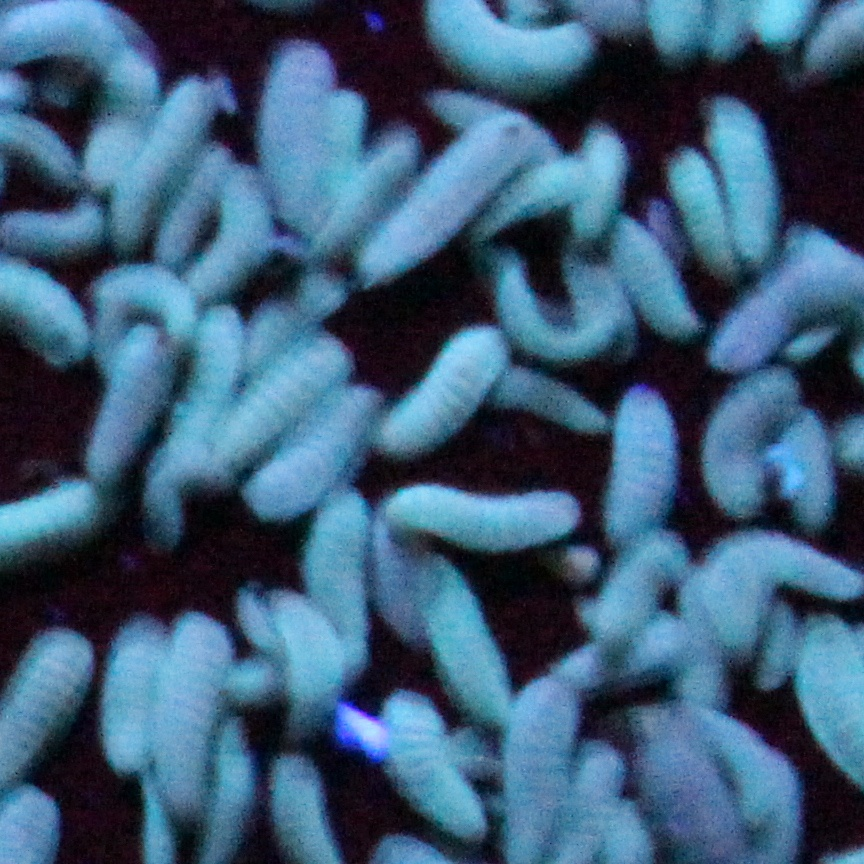larve: (376, 112, 522, 281), (191, 337, 348, 489), (104, 76, 225, 254), (374, 671, 491, 844), (382, 465, 587, 561), (696, 83, 794, 272), (254, 40, 340, 249), (696, 360, 803, 526), (378, 323, 502, 456), (157, 604, 233, 809), (596, 383, 679, 558), (75, 332, 181, 462), (98, 603, 168, 779), (661, 140, 748, 280), (340, 112, 427, 245), (258, 402, 366, 505), (86, 258, 195, 341), (160, 141, 230, 258), (496, 364, 593, 437), (570, 125, 625, 251)
